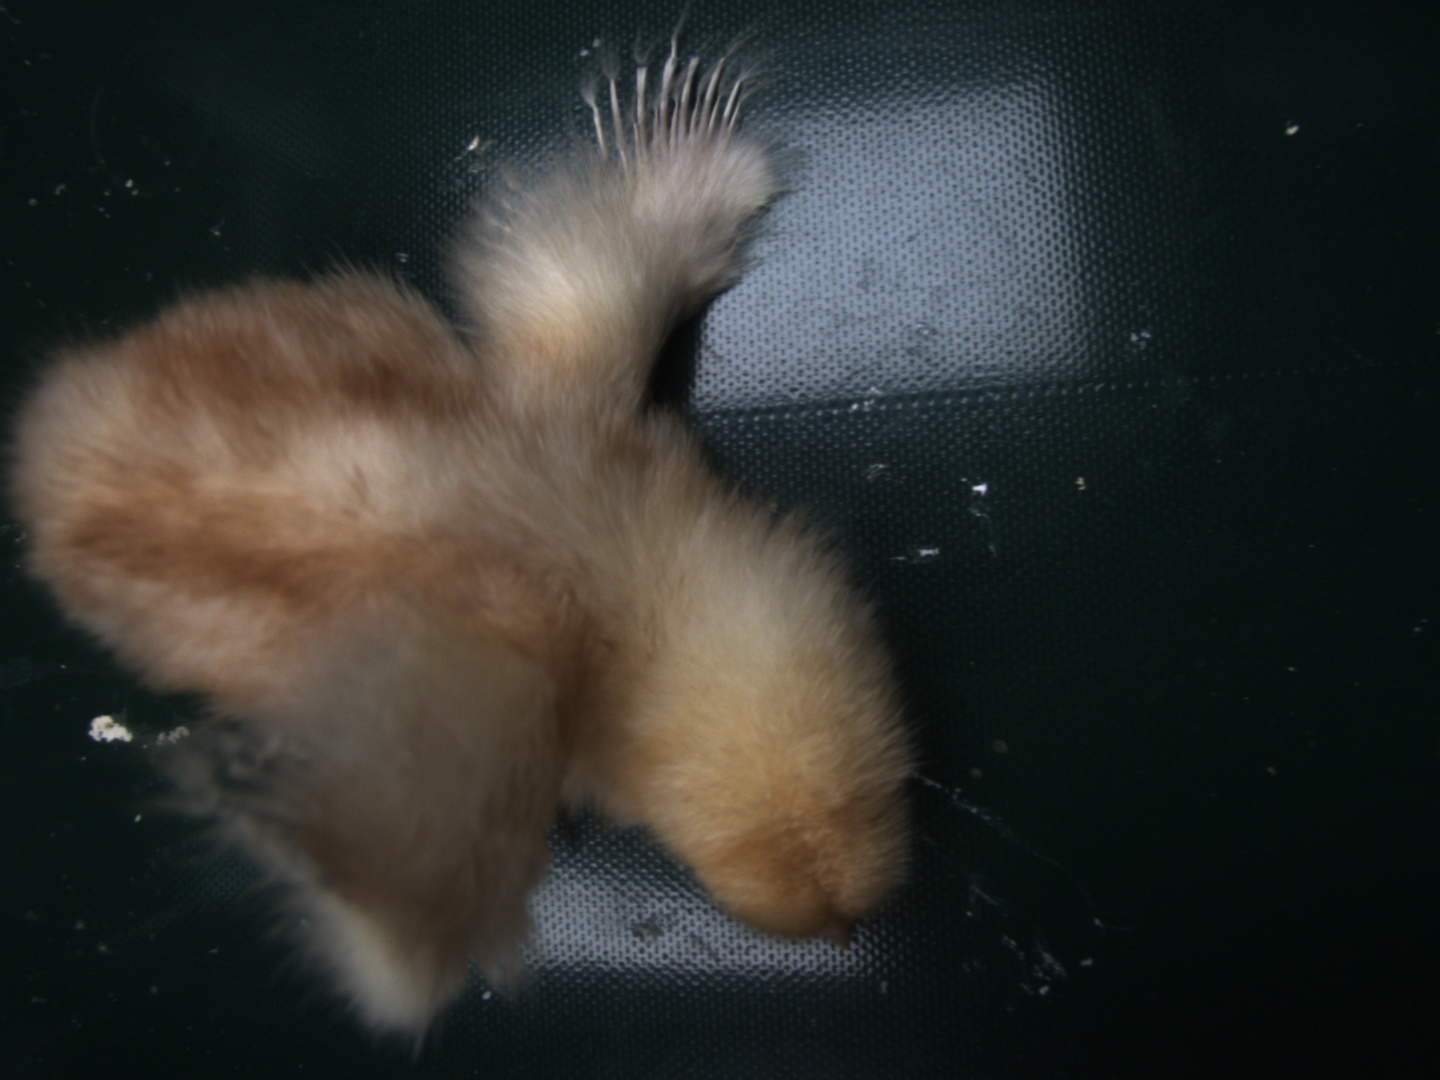female: (577, 47, 747, 182)
